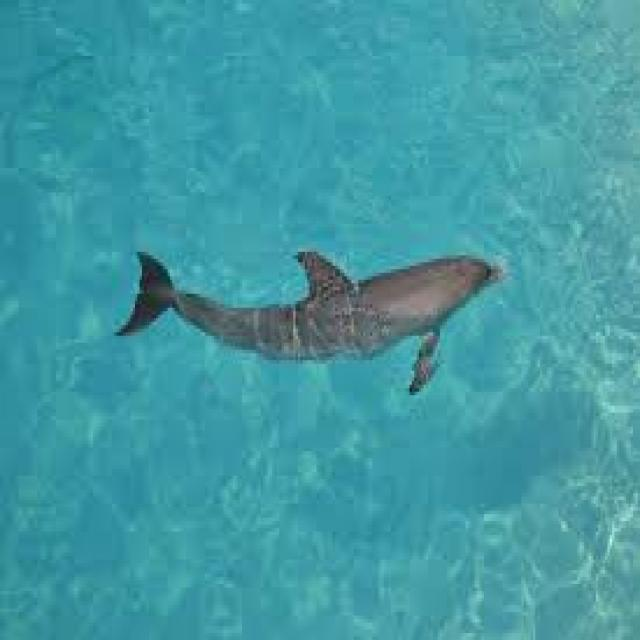dolphin: (67, 206, 540, 497)
